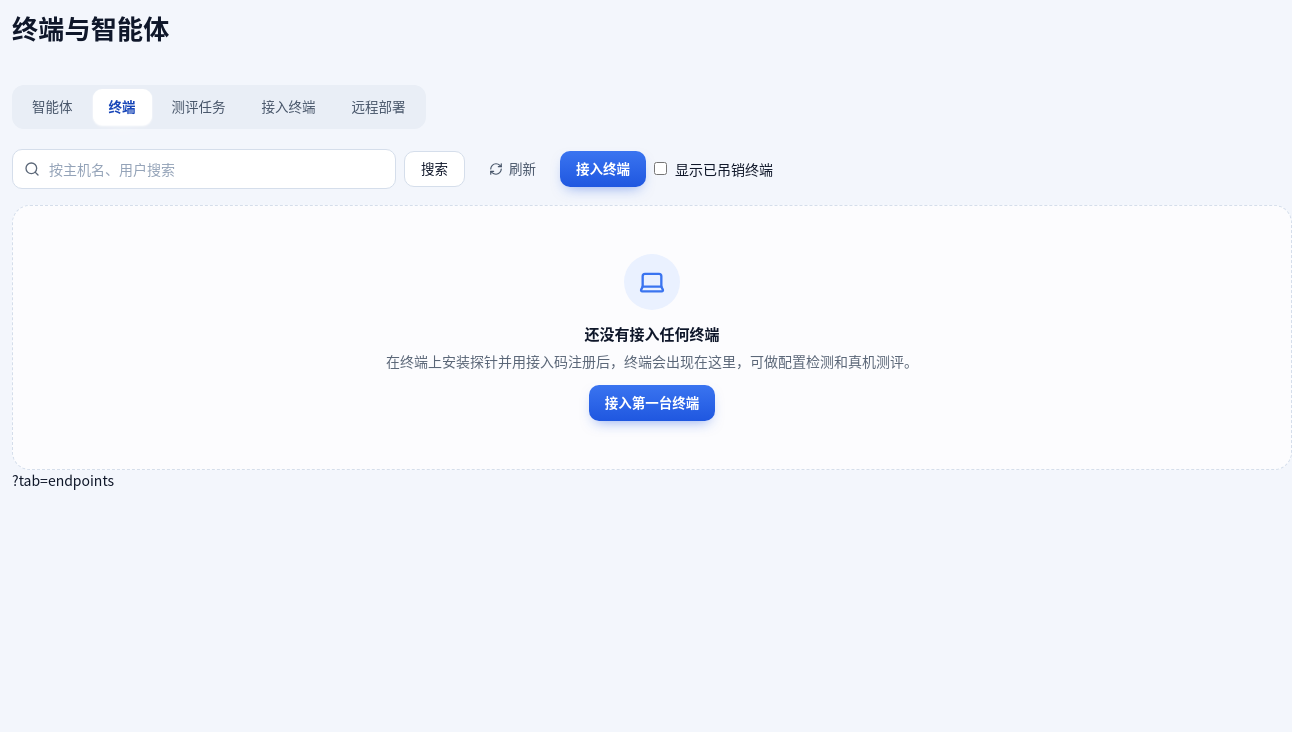
Scenario: 终端清单 › 空清单显示引导，点击切到接入页签
Check: the text "还没有接入任何终端" is shown, box [584, 322, 720, 344]
Click the button "接入第一台终端". click: x=652, y=403
box: [589, 385, 715, 421]
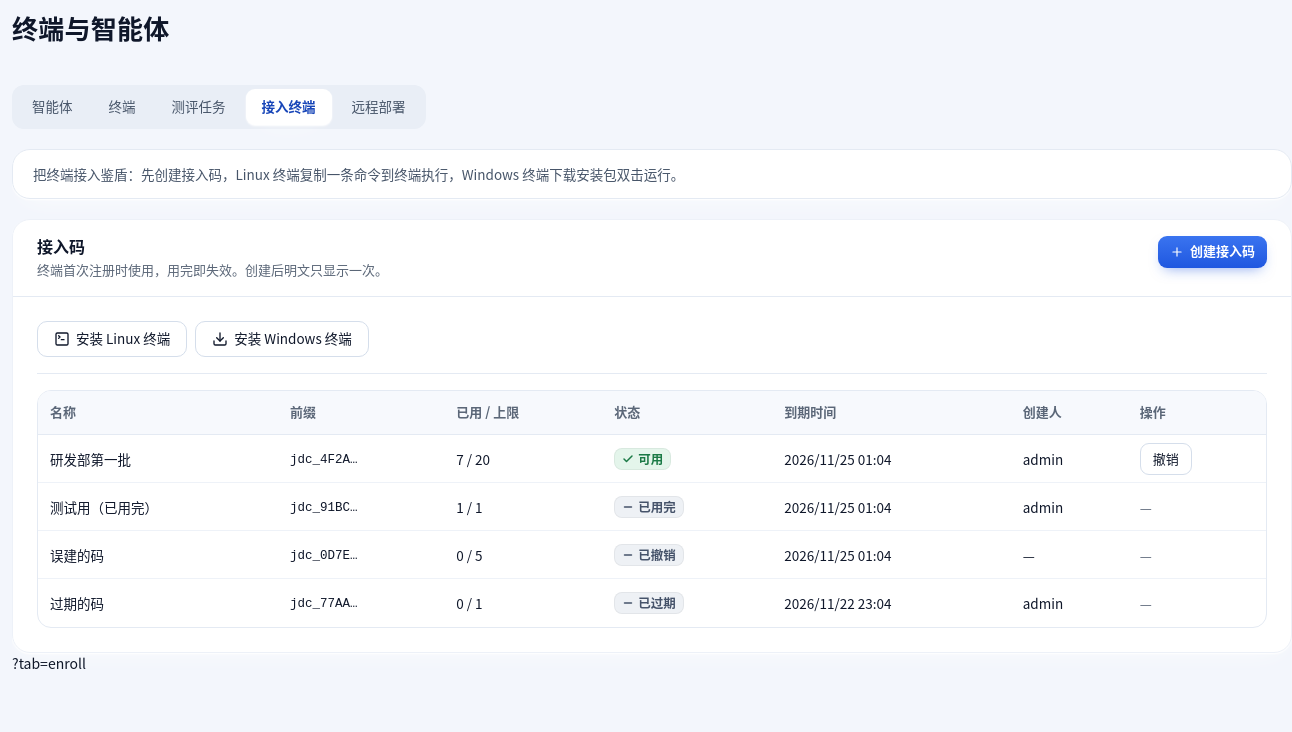
Check: the heading "接入码" is shown, box [37, 234, 85, 258]
